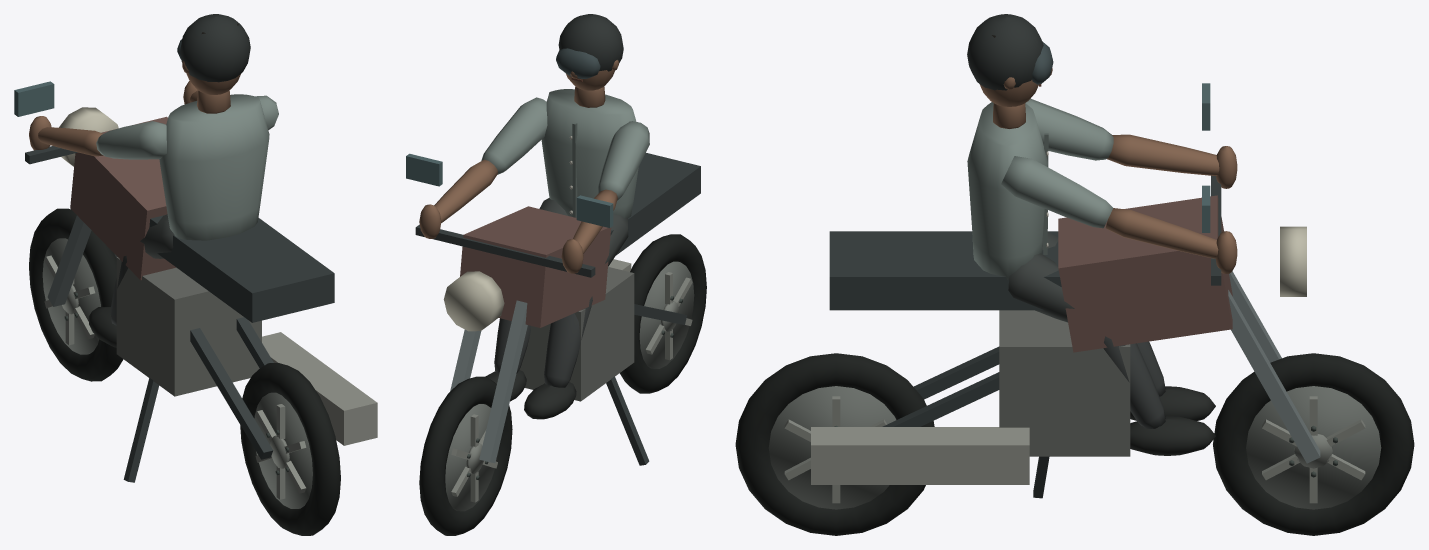
File: motorcycle_rider.glb
3 renders of one model, left to right at view 1: azimuth 30°, elevation 25°; view 2: azimuth 150°, elevation 25°; view 3: azimuth 270°, elevation 25°, orthographic. The views are drawn at different scales.
Visible parts, largest first — view 1: motorcycle_rider; view 2: motorcycle_rider; view 3: motorcycle_rider.
Part boxes in pixels (<box>): motorcycle_rider: <box>14,14,377,535</box>; motorcycle_rider: <box>406,14,706,535</box>; motorcycle_rider: <box>735,14,1414,535</box>.
Bounding box in the file's own units: 0.86 × 1.7 × 2.02.
